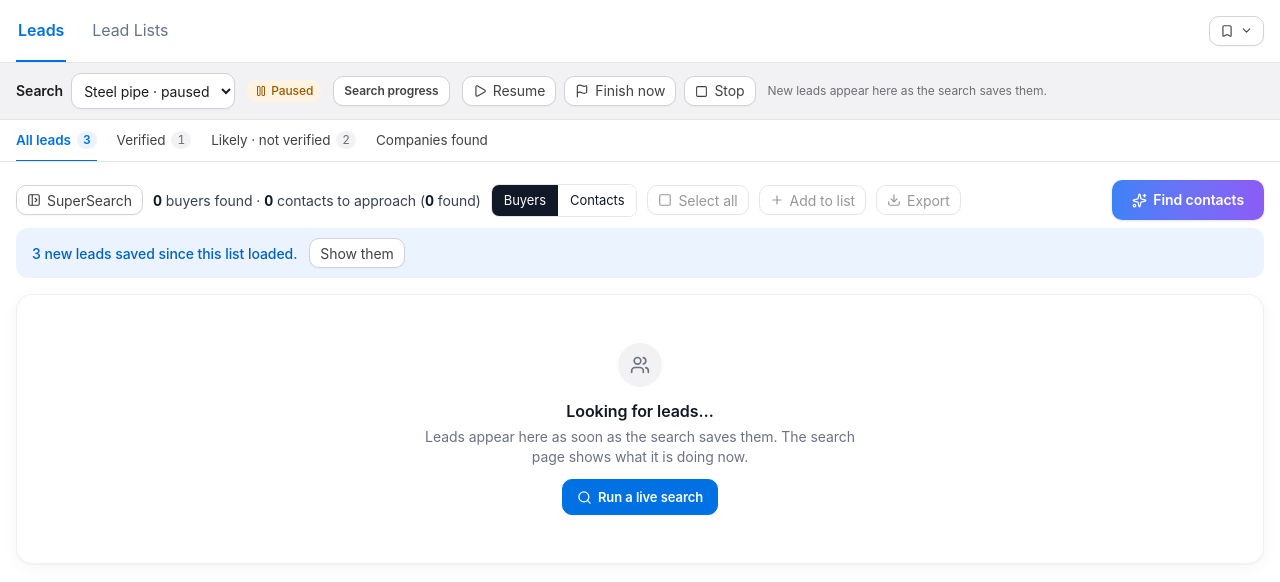
Test case: Leads tabs (docs/mvp/18 §9) › shows all, verified, likely and companies found with counts, and the search's controls
Expected: the tab "Verified 1" is shown, top-left (117, 120), bottom-right (191, 162)
Expected: the tab "Likely · not verified 2" is shown, top-left (211, 120), bottom-right (356, 162)
Click the tab "Companies found" at (432,141), box top-left (376, 120), bottom-right (488, 162)
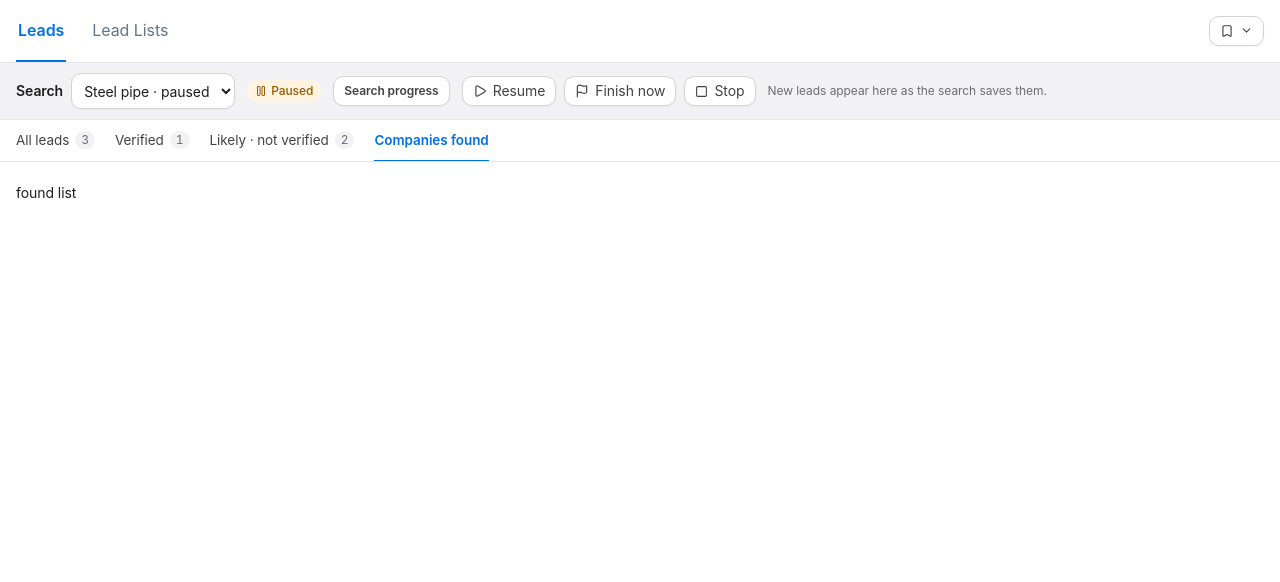
Expected: the text "Paused" is shown, top-left (247, 80), bottom-right (321, 102)
Expected: the text "found list" is shown, top-left (16, 184), bottom-right (76, 201)
